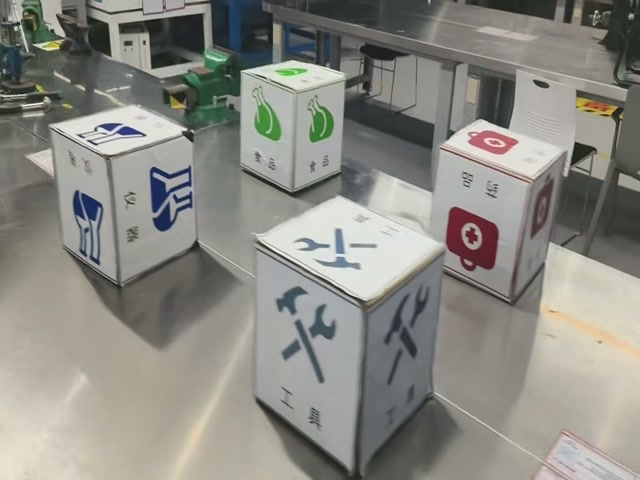Cube_food: (245, 60, 345, 95)
Cube_ins: (50, 104, 191, 162)
Cube_medicine: (439, 119, 559, 182)
Cube_tool: (253, 196, 440, 306)
